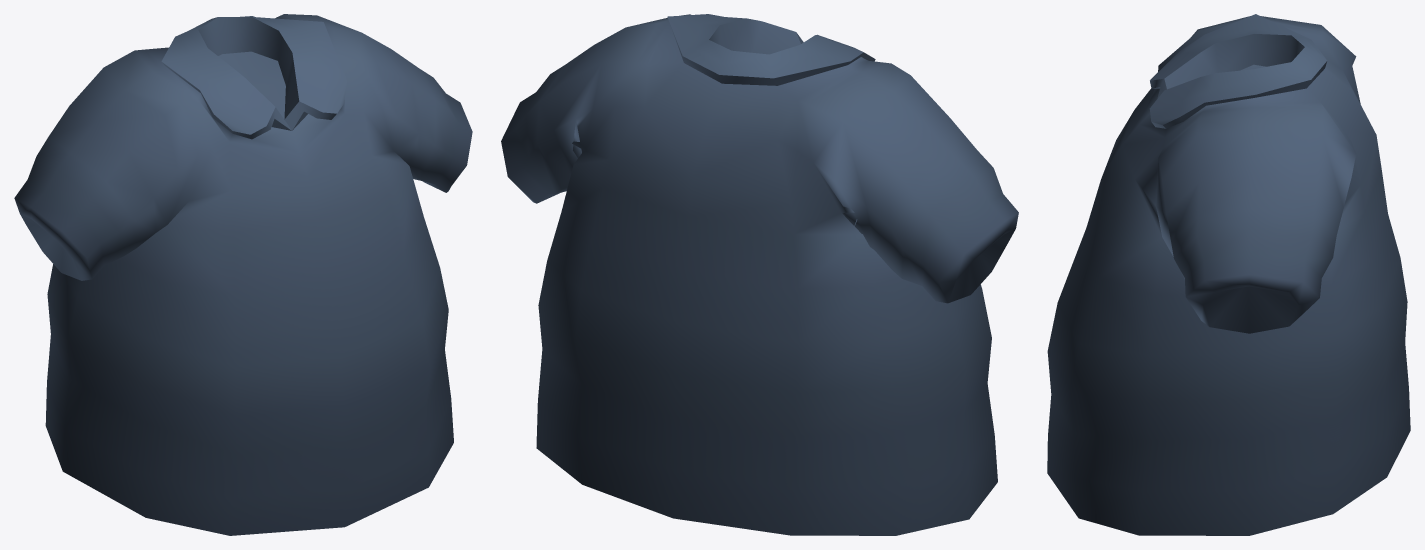
3 views of the same model, side by side, from view 1: azimuth 30°, elevation 25°; view 2: azimuth 150°, elevation 25°; view 3: azimuth 270°, elevation 25° (orthographic). The views are drawn at different scales.
Visible parts, largest first — view 1: Top_72; view 2: Top_72; view 3: Top_72.
Part boxes in pixels (<box>): Top_72: <box>14,14,472,535</box>; Top_72: <box>501,14,1018,535</box>; Top_72: <box>1047,14,1410,535</box>.
Bounding box in the file's own units: 75.89 × 70.55 × 54.51.
